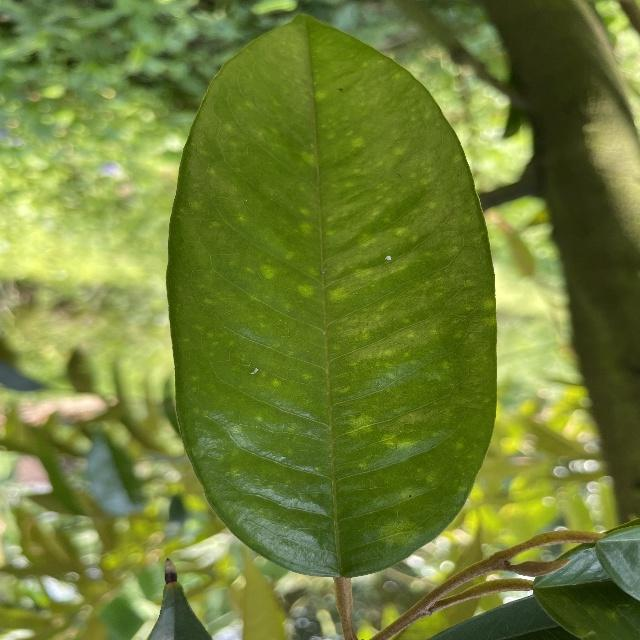Leaf Spot: (157, 11, 511, 591)
